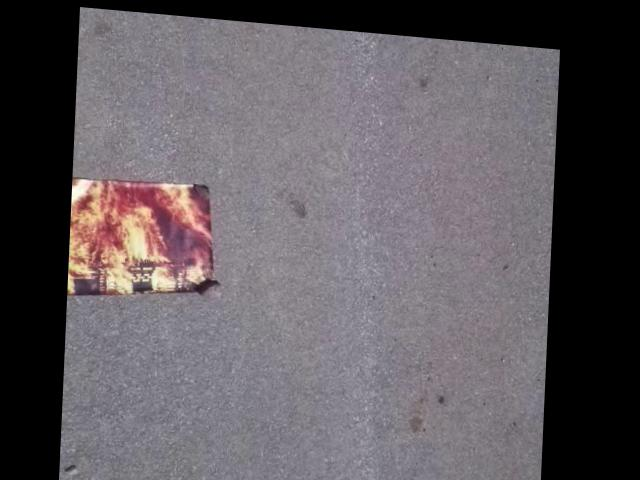fire-poster: (71, 168, 229, 306)
